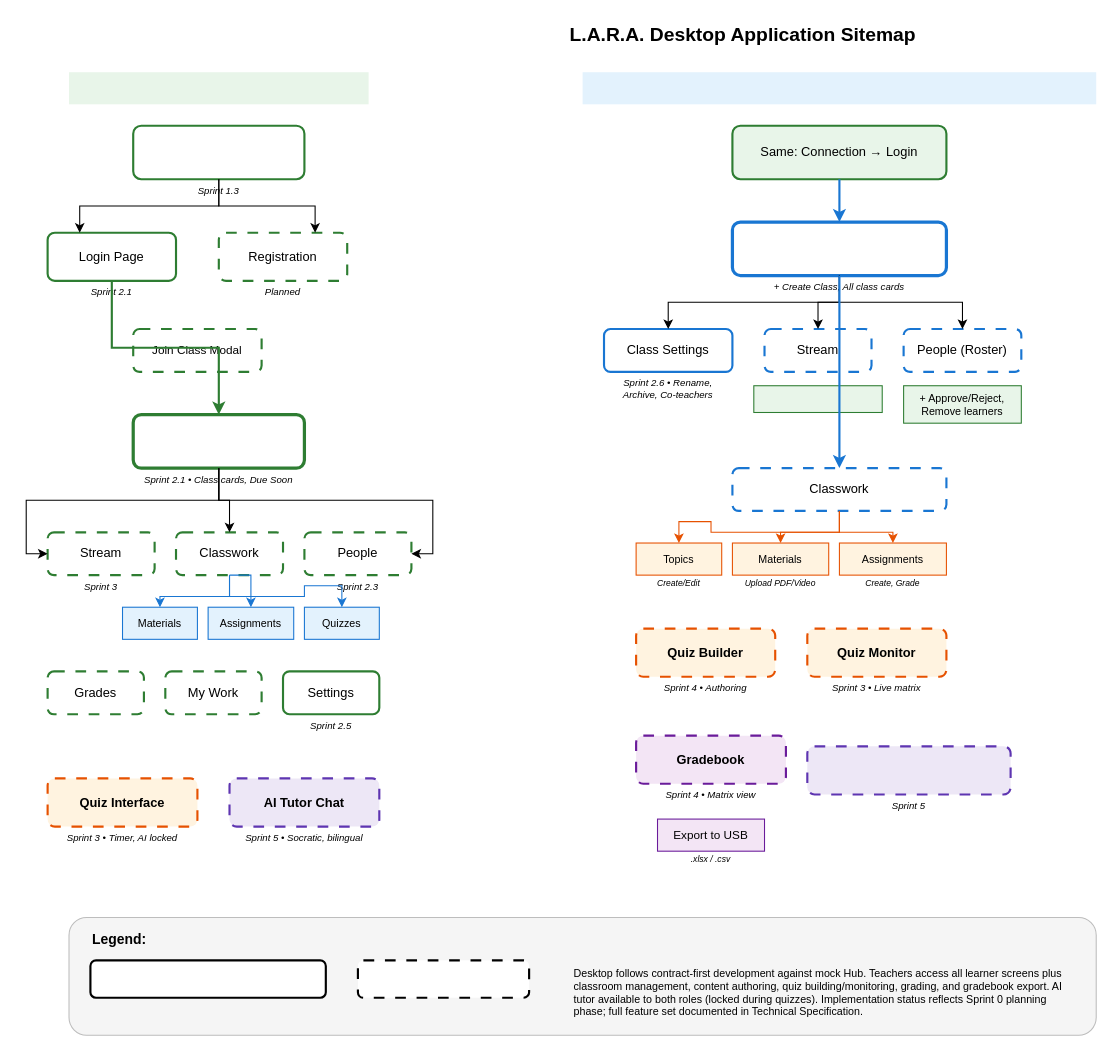
This 1115x1054 diagram has some shape labels left out. Here are the shapes that lost their labels. From the top down, the centre of each, then its label:
At (x=218, y=88): "Learner Navigation".
At (x=839, y=88): "Teacher Navigation (All Learner Screens + Management)".
At (x=218, y=152): "Connection Page".
At (x=838, y=248): "Home (Teacher)".
At (x=817, y=398): "+ Post Announcement".
At (x=218, y=440): "Home".
At (x=908, y=770): "AI Tutor (Same as Learner)".
At (x=207, y=978): "Implemented or In Progress (Sprint 0–2)".
At (x=443, y=978): "Planned (Sprint 3–6)".
